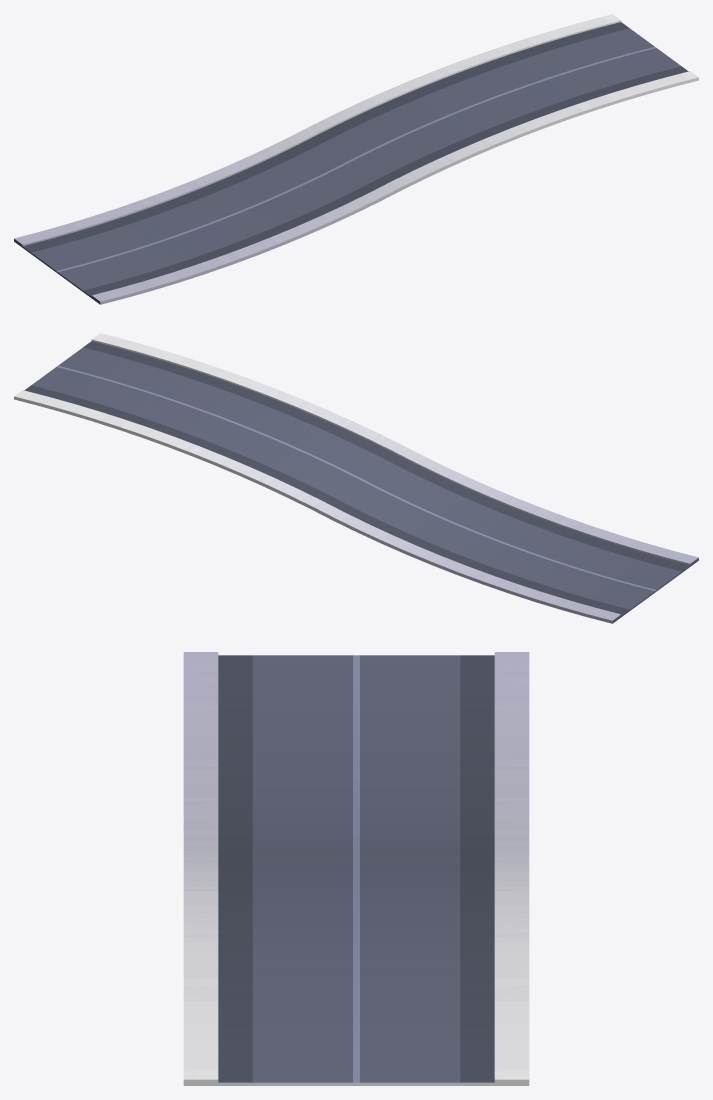
Rendered from road-slant-flat-curve_4.glb.
The picture shows the model from 3 angles, top to bottom: view 1: azimuth 30°, elevation 25°; view 2: azimuth 150°, elevation 25°; view 3: azimuth 270°, elevation 25°; orthographic projection. The views are drawn at different scales.
Visible parts, largest first — view 1: road-slant-flat-curve_4; view 2: road-slant-flat-curve_4; view 3: road-slant-flat-curve_4.
Part boxes in pixels (x1,y1,x2,y2): road-slant-flat-curve_4: [14, 14, 698, 304]; road-slant-flat-curve_4: [14, 333, 698, 623]; road-slant-flat-curve_4: [183, 652, 529, 1085].
Size of the model in its own units: 4 by 0.52 by 1.
Materials: 1 (1 with a texture image).
